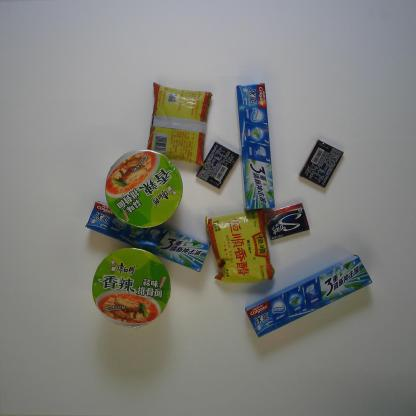Gum: (298, 138, 344, 190), (196, 140, 240, 190), (262, 202, 310, 241)
Instant Noodles: (91, 246, 172, 330), (104, 149, 184, 229)
Personal Hygiene: (244, 253, 373, 339), (84, 200, 211, 273), (233, 81, 276, 211)
Seasoner: (146, 82, 214, 168), (205, 208, 276, 284)
